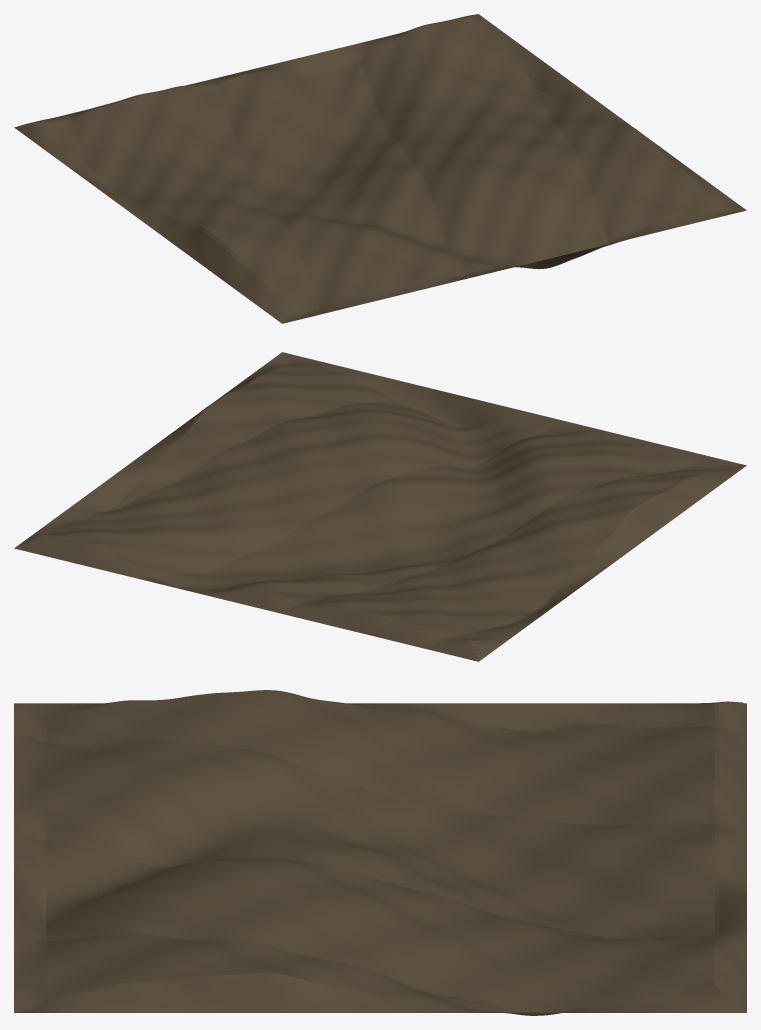
File: harbor_estuary_banks.obj
3 renders of one model, top to bottom at view 1: azimuth 30°, elevation 25°; view 2: azimuth 150°, elevation 25°; view 3: azimuth 270°, elevation 25°, orthographic. The views are drawn at different scales.
Parts seen in each view (by area): view 1: harbor_estuary_banks; view 2: harbor_estuary_banks; view 3: harbor_estuary_banks.
Part boxes in pixels (left/top/right/bottom): harbor_estuary_banks: left=14, top=14, right=746, bottom=323; harbor_estuary_banks: left=14, top=352, right=746, bottom=661; harbor_estuary_banks: left=14, top=690, right=746, bottom=1015.
Size of the model in its own units: 160 by 14.75 by 160.
